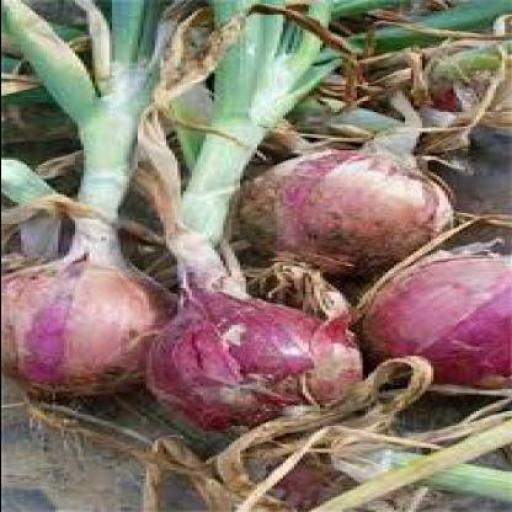biodegradable: (128, 0, 362, 430), (1, 0, 169, 425), (140, 358, 509, 510), (231, 92, 455, 306), (307, 2, 509, 154), (344, 246, 509, 390)
